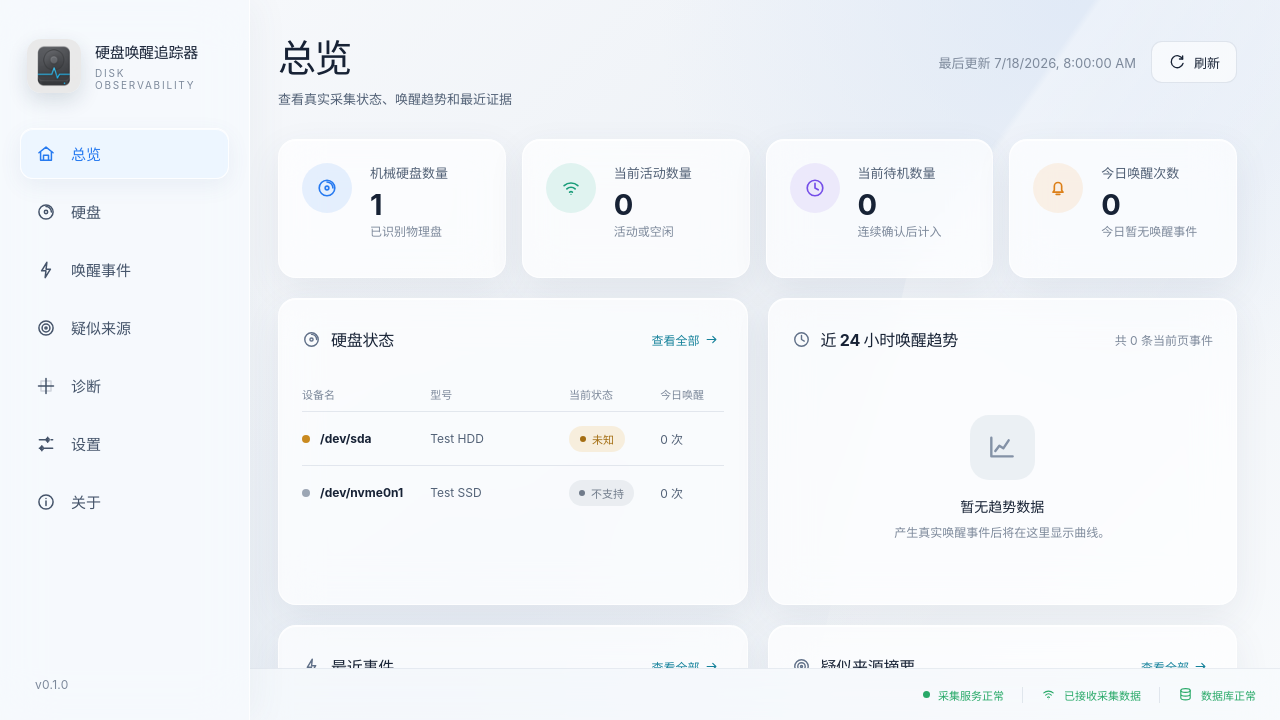
App › 恢复当前值使用最后确认设置
Click the button "设置" at (124,444), box [20,418,229,469]
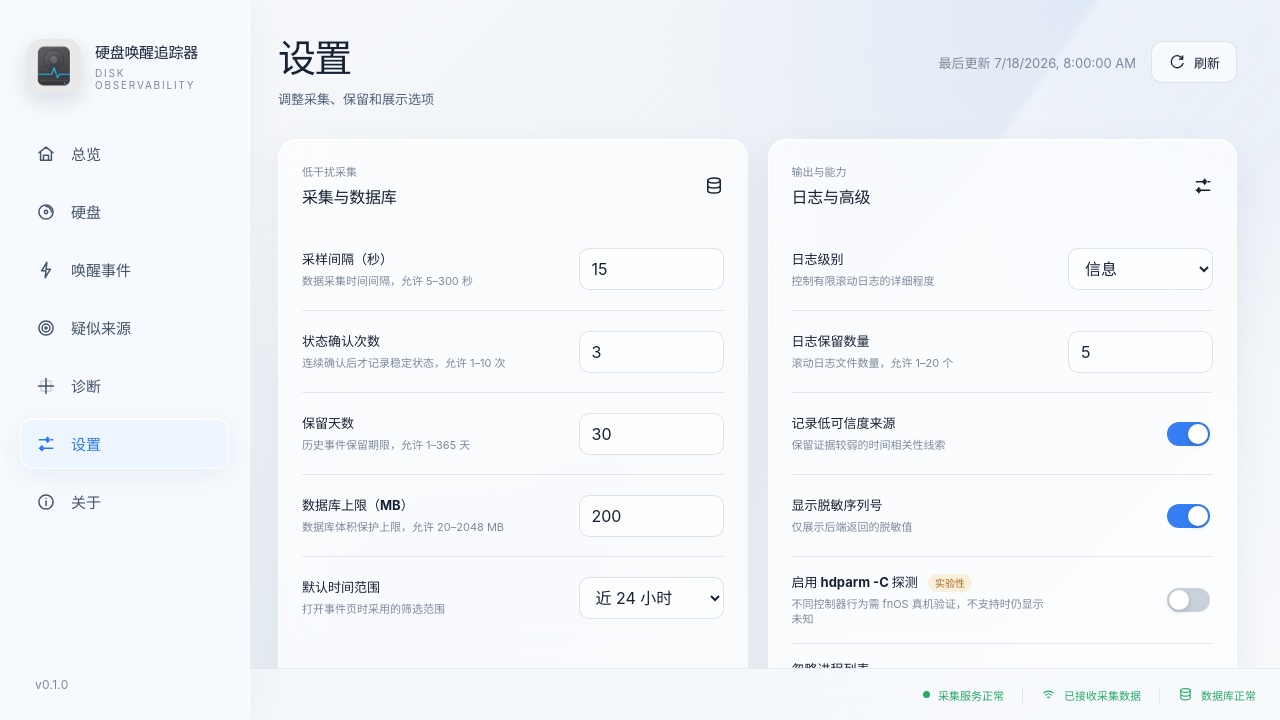
Replace the text in the number field labelled "采样间隔（秒） 数据采集时间间隔，允许 5–300 秒" with "99" at (651,269), box [578,248,724,290]
(page scrolled)
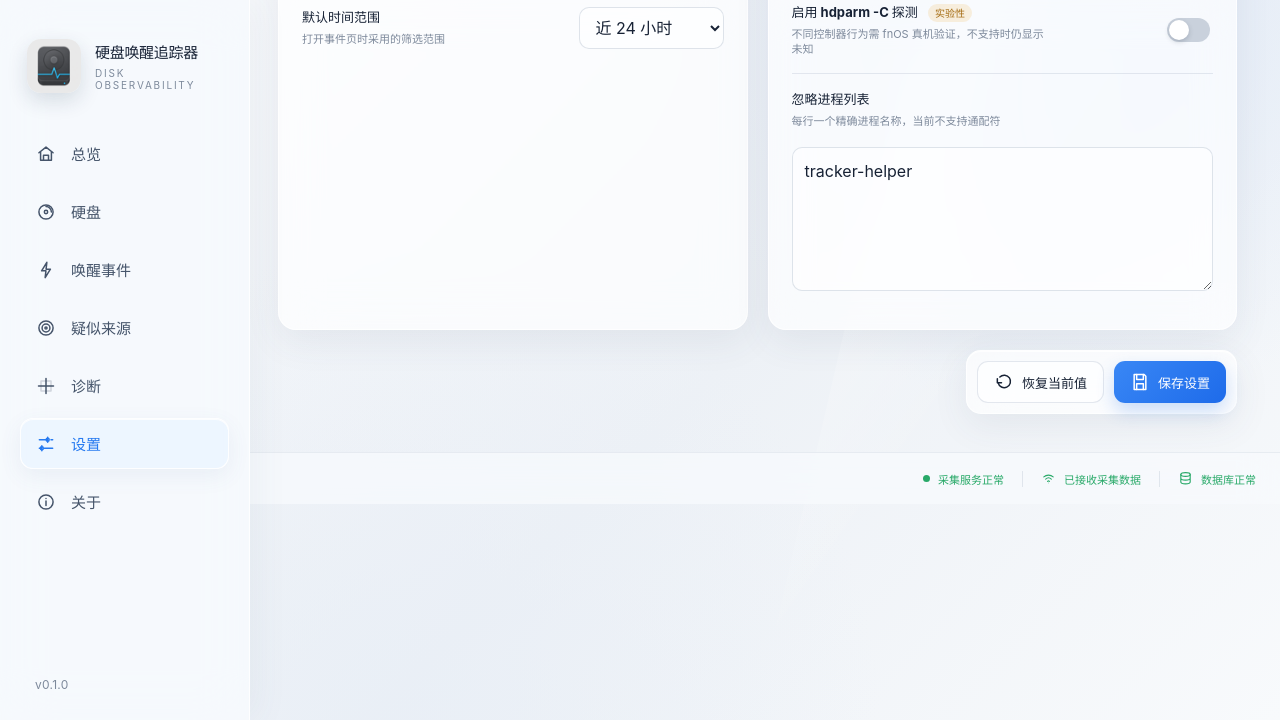
Click the button "恢复当前值" at (1040,382), box [977,361,1104,403]
(page scrolled)
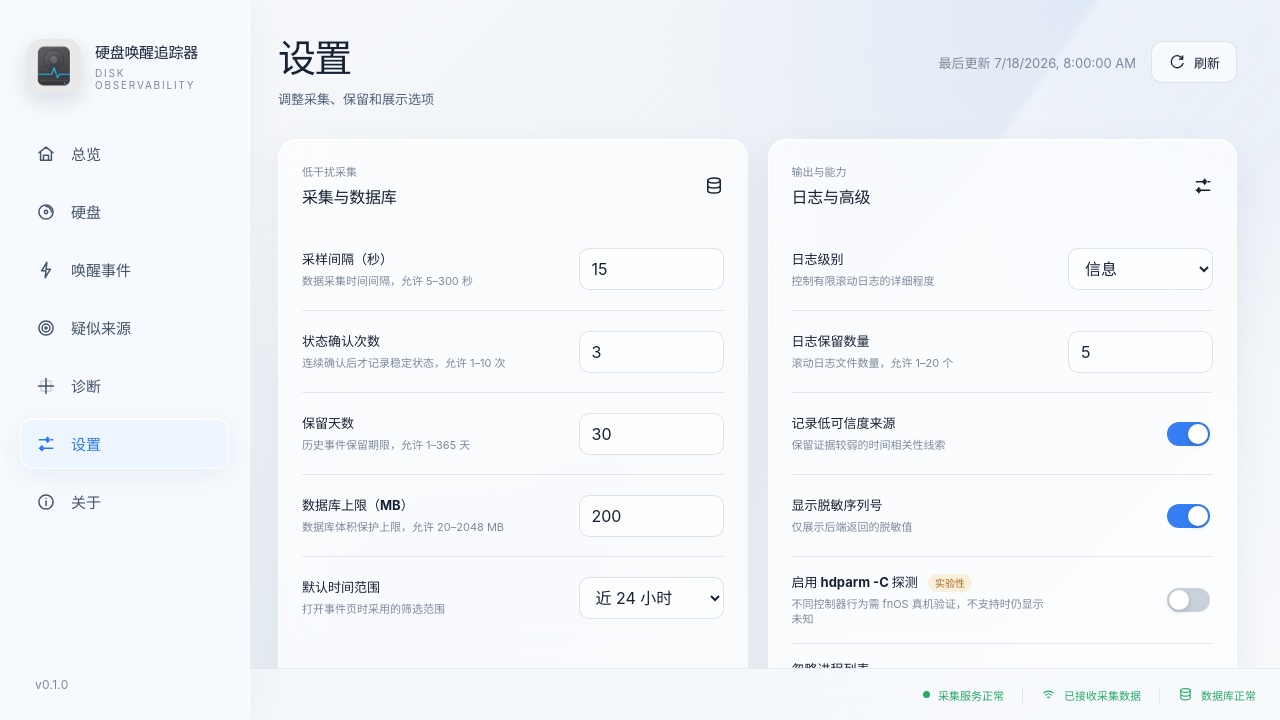
Expected: the number field labelled "采样间隔（秒） 数据采集时间间隔，允许 5–300 秒" holds "15", [578,248,724,290]
